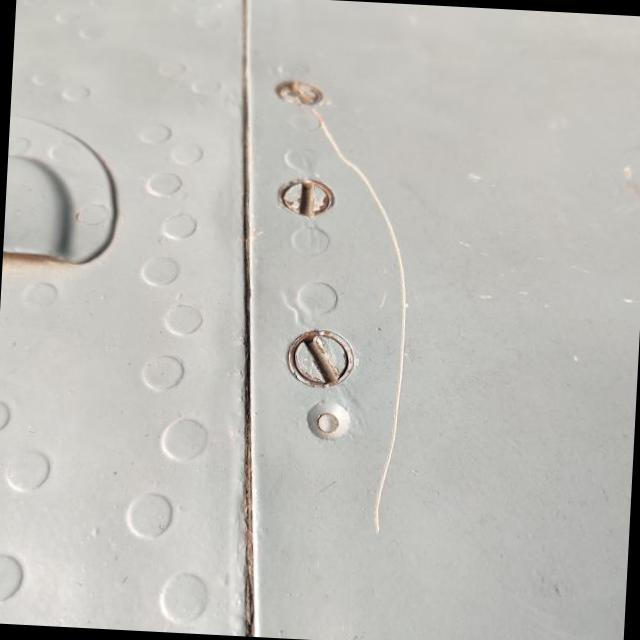Scratch: (310, 111, 411, 531)
